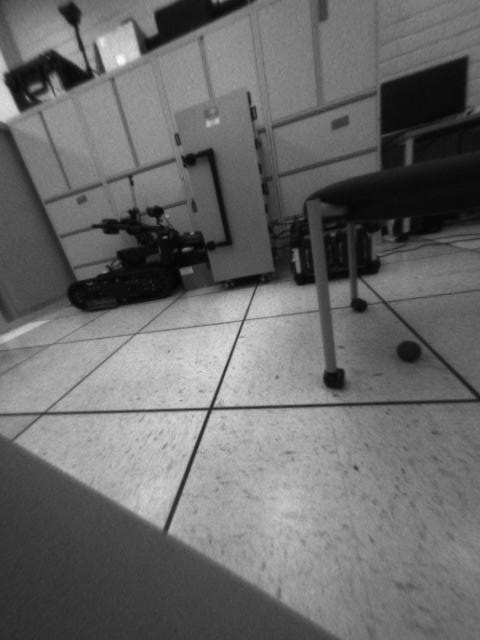dogtoy: (393, 335, 427, 367)
